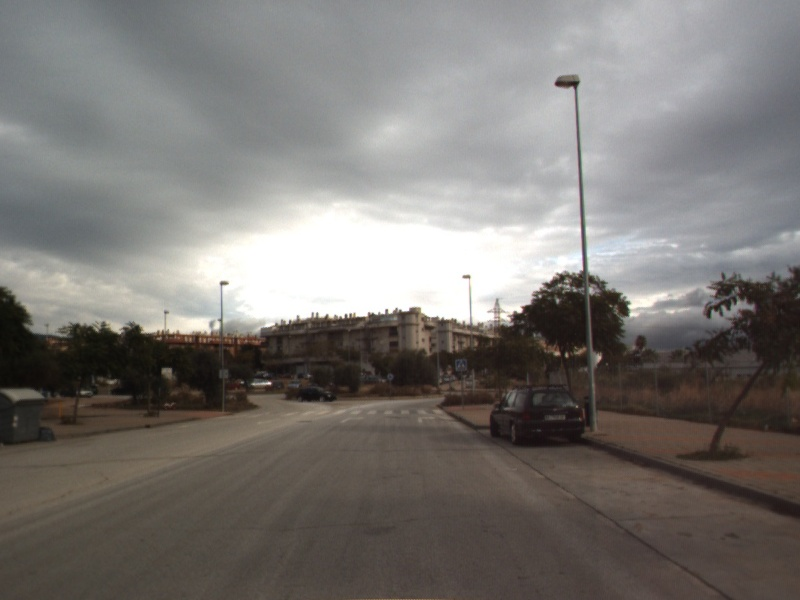RIGHT: (338, 414, 367, 425), (416, 414, 437, 425)
